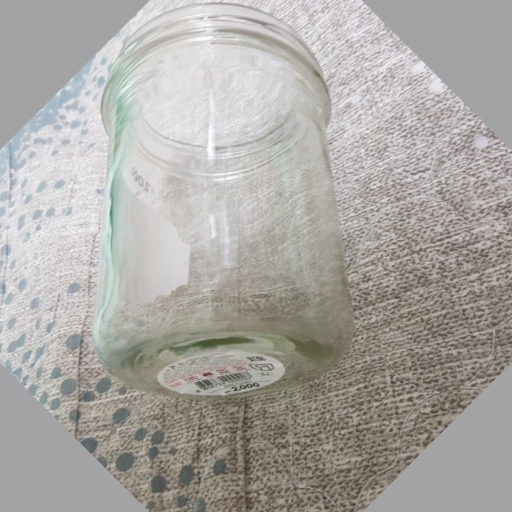Glass_5: (95, 7, 351, 400)
